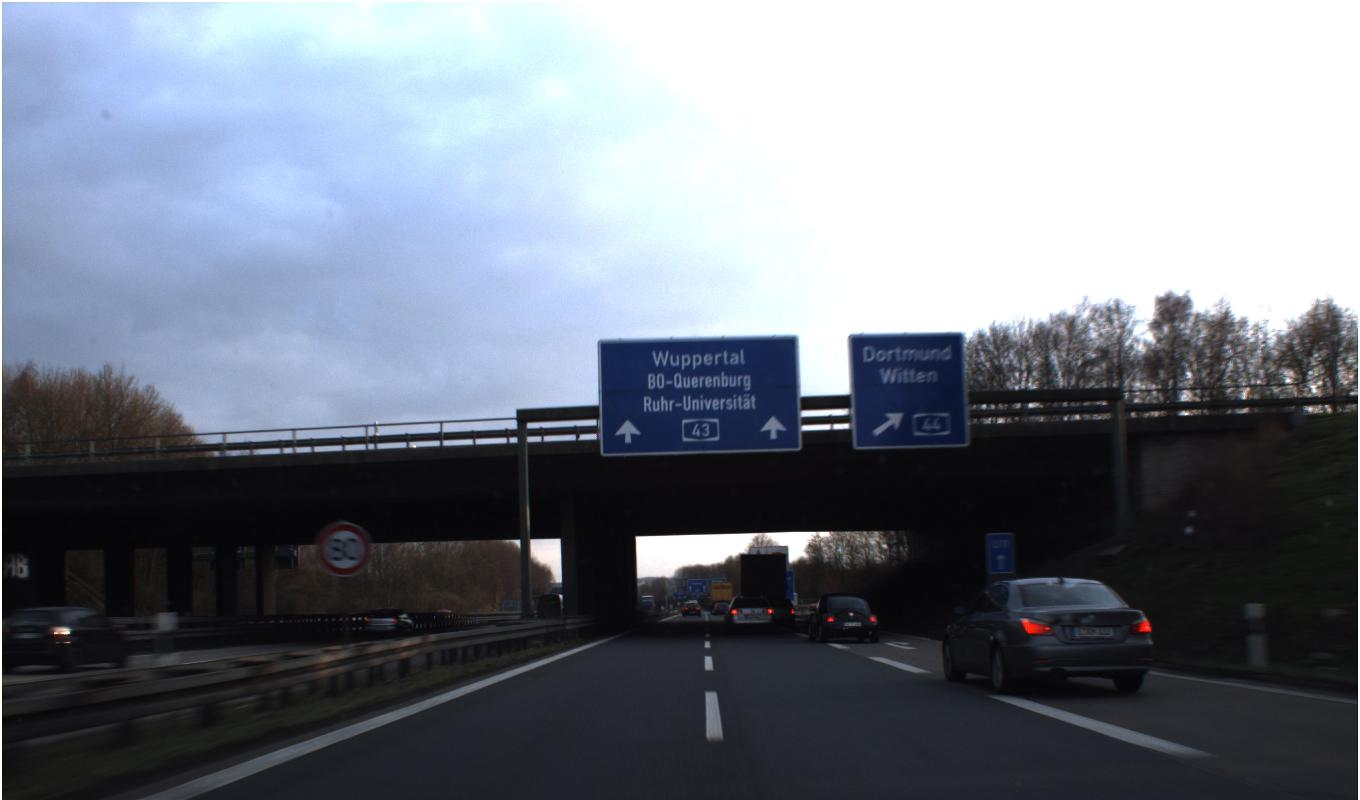prohibitory: (316, 521, 372, 577)
